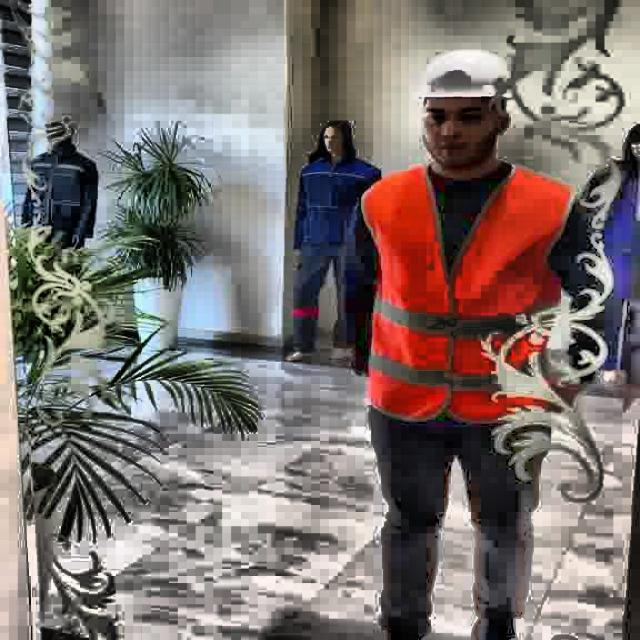safety_helmet: (418, 48, 514, 100)
safety_jacket: (360, 163, 578, 425)
